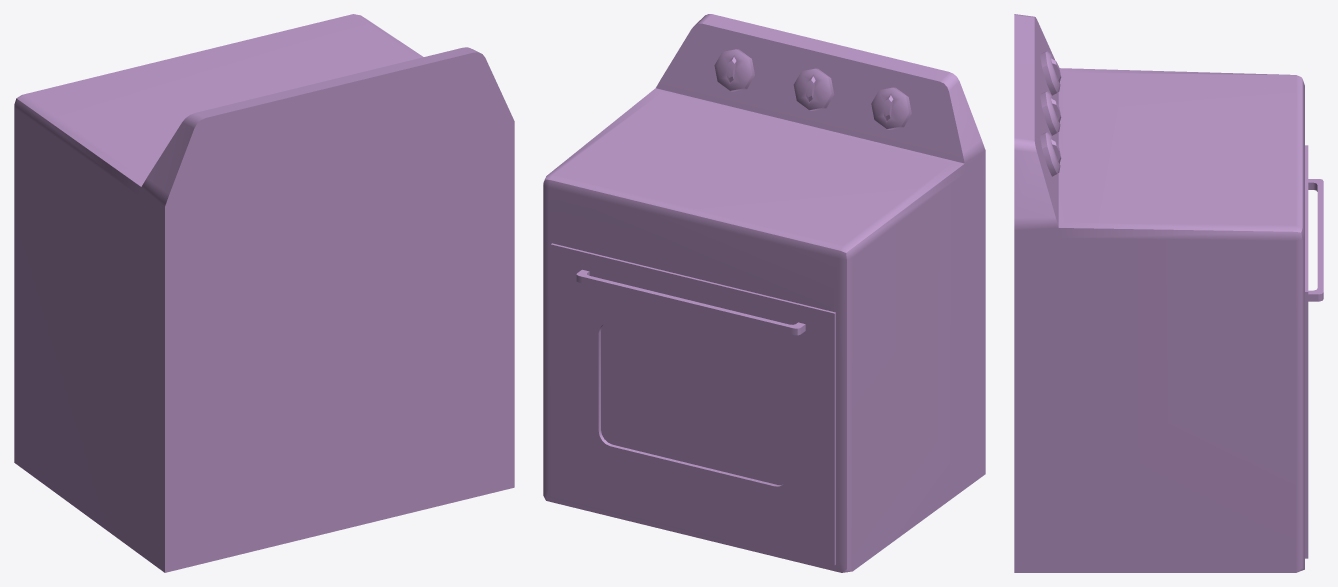
File: SM_ FE_Props_Oven01.fbx
3 views of the same model, side by side, from view 1: azimuth 30°, elevation 25°; view 2: azimuth 150°, elevation 25°; view 3: azimuth 270°, elevation 25° (orthographic). The views are drawn at different scales.
Visible parts, largest first — view 1: SM_ FE_Props_Oven01; view 2: SM_ FE_Props_Oven01; view 3: SM_ FE_Props_Oven01.
Boxes of the visible parts, bbox=[...] form: SM_ FE_Props_Oven01: bbox=[14, 14, 514, 572]; SM_ FE_Props_Oven01: bbox=[543, 14, 985, 572]; SM_ FE_Props_Oven01: bbox=[1014, 14, 1323, 572].
Size of the model in its own units: 47.94 by 58.28 by 39.2.
